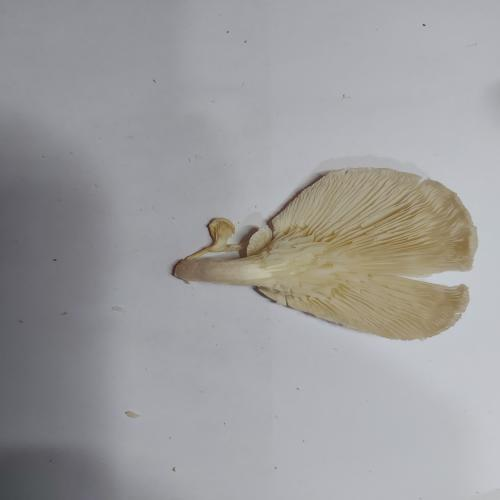Oyster Mushroom: (171, 166, 479, 342)
